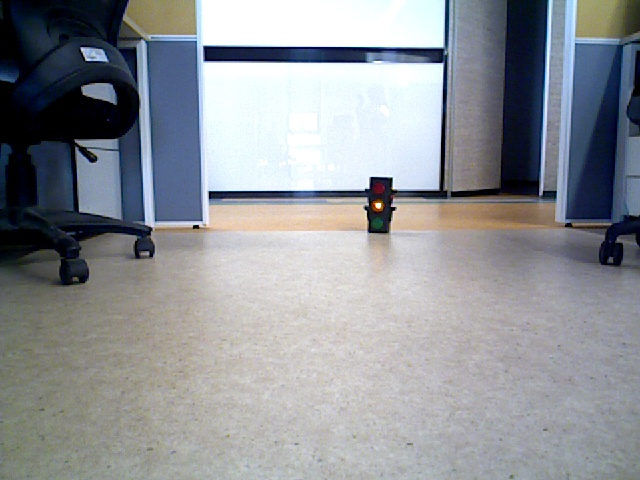yellow: (370, 180, 390, 229)
